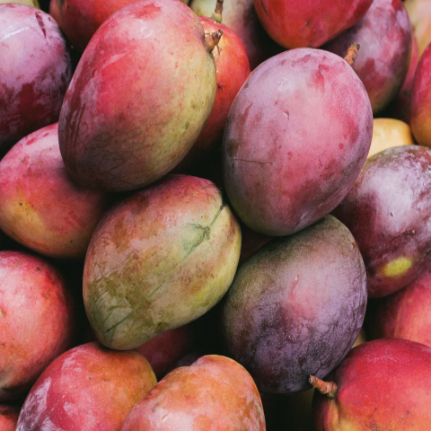mango: (38, 0, 234, 200), (221, 23, 378, 238), (62, 172, 260, 342), (214, 211, 376, 398)
